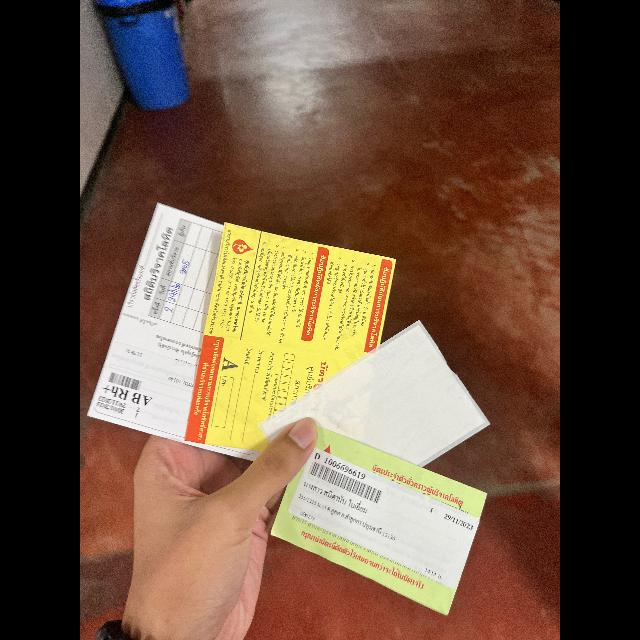scrap_paper: (188, 204, 406, 468), (86, 190, 302, 456), (266, 422, 498, 622), (263, 313, 491, 495)
